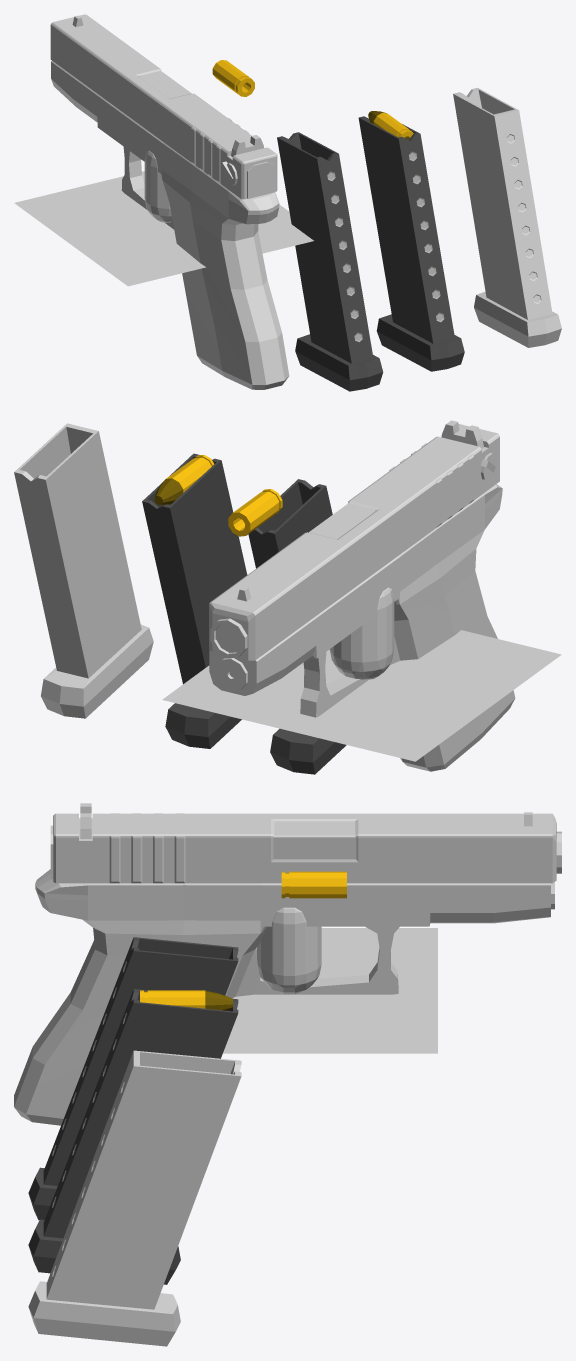
The model's file is gun0.glb.
3 renders of one model, top to bottom at view 1: azimuth 30°, elevation 25°; view 2: azimuth 150°, elevation 25°; view 3: azimuth 270°, elevation 25°, orthographic. The views are drawn at different scales.
Visible parts, largest first — view 1: Cube.022, Cube.011, Cube.015, Cube.013, Cube.023, Plane, Mball.001, Cylinder.002, Cube.018, Cube.002, Cylinder.005; view 2: Cube.011, Cube.022, Plane, Cube.023, Cube.013, Cube.015, Mball.001, Cylinder.002, Cylinder.005, Cube.021, Cube.002, Cylinder.007 (+1 smaller); view 3: Cube.022, Cube.011, Cube.023, Plane, Cube.013, Cube.015, Mball.001, Cube.002, Cylinder.002, Cylinder.005.
Part boxes in pixels (bbox=[...]): Cube.022: bbox=[51, 60, 289, 389]; Cube.011: bbox=[453, 87, 561, 347]; Cube.015: bbox=[277, 132, 383, 391]; Cube.013: bbox=[358, 116, 464, 371]; Cube.023: bbox=[50, 14, 277, 199]; Plane: bbox=[14, 171, 313, 286]; Mball.001: bbox=[144, 150, 172, 222]; Cylinder.002: bbox=[212, 60, 254, 96]; Cube.018: bbox=[247, 161, 274, 198]; Cube.002: bbox=[140, 70, 191, 98]; Cylinder.005: bbox=[368, 111, 413, 139]; Cube.011: bbox=[14, 423, 153, 718]; Cube.022: bbox=[209, 484, 515, 771]; Plane: bbox=[162, 630, 561, 761]; Cube.023: bbox=[209, 424, 499, 660]; Cube.013: bbox=[142, 453, 247, 748]; Cube.015: bbox=[248, 479, 346, 774]; Mball.001: bbox=[329, 587, 394, 679]; Cylinder.002: bbox=[228, 489, 282, 536]; Cylinder.005: bbox=[154, 455, 213, 504]; Cube.021: bbox=[210, 618, 247, 658]; Cube.002: bbox=[309, 503, 375, 538]; Cylinder.007: bbox=[216, 658, 247, 691]; Cube.022: bbox=[14, 869, 550, 1125]; Cube.011: bbox=[28, 1050, 241, 1346]; Cube.023: bbox=[53, 813, 556, 883]; Plane: bbox=[223, 928, 437, 1053]; Cube.013: bbox=[28, 989, 238, 1284]; Cube.015: bbox=[28, 937, 238, 1220]; Mball.001: bbox=[257, 907, 321, 994]; Cube.002: bbox=[273, 822, 356, 859]; Cylinder.002: bbox=[281, 871, 346, 898]; Cylinder.005: bbox=[140, 990, 232, 1010].
Bounding box in the file's own units: 9.81 × 6.44 × 9.11.
